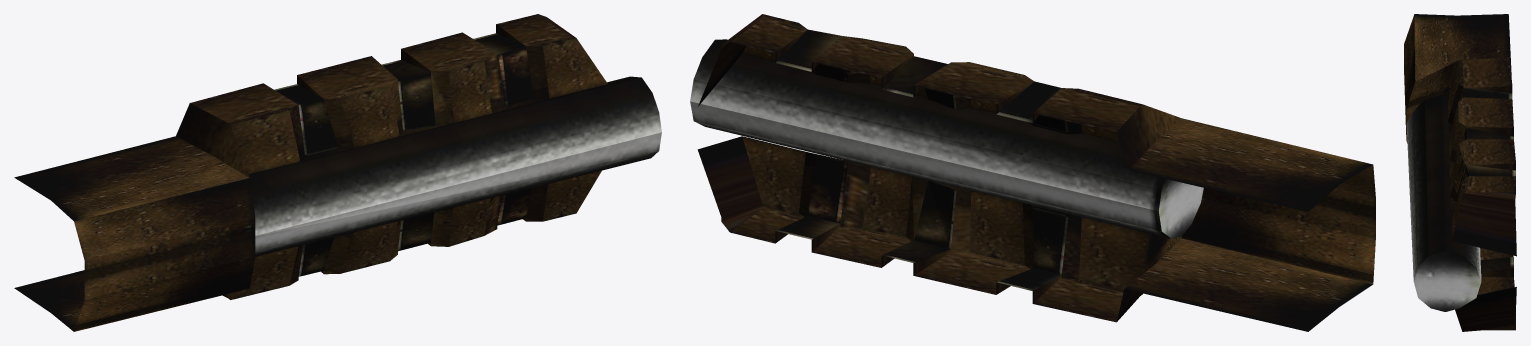
The model's file is v_shot_4.obj.
3 renders of one model, left to right at view 1: azimuth 30°, elevation 25°; view 2: azimuth 150°, elevation 25°; view 3: azimuth 270°, elevation 25°, orthographic. The views are drawn at different scales.
Size of the model in its own units: 13.86 by 3.95 by 2.93.
Materials: 1 (1 with a texture image).
